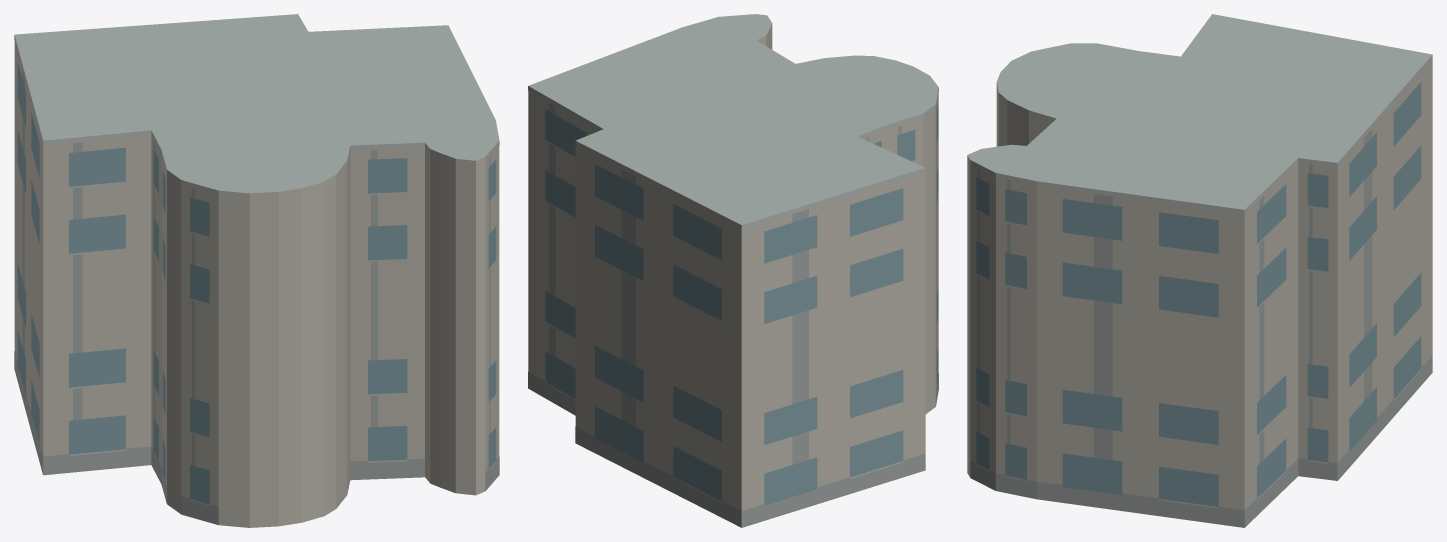
File: survey-upis-32497450.glb
3 views of the same model, side by side, from view 1: azimuth 30°, elevation 25°; view 2: azimuth 150°, elevation 25°; view 3: azimuth 270°, elevation 25° (orthographic). The views are drawn at different scales.
Parts seen in each view (by area): view 1: survey-upis-32497450.tmp; view 2: survey-upis-32497450.tmp; view 3: survey-upis-32497450.tmp.
Part boxes in pixels (x1=…): survey-upis-32497450.tmp: x1=14, y1=14, x2=499, y2=527; survey-upis-32497450.tmp: x1=528, y1=14, x2=938, y2=527; survey-upis-32497450.tmp: x1=967, y1=14, x2=1432, y2=527.
Size of the model in its own units: 20.15 by 15.25 by 20.23.
